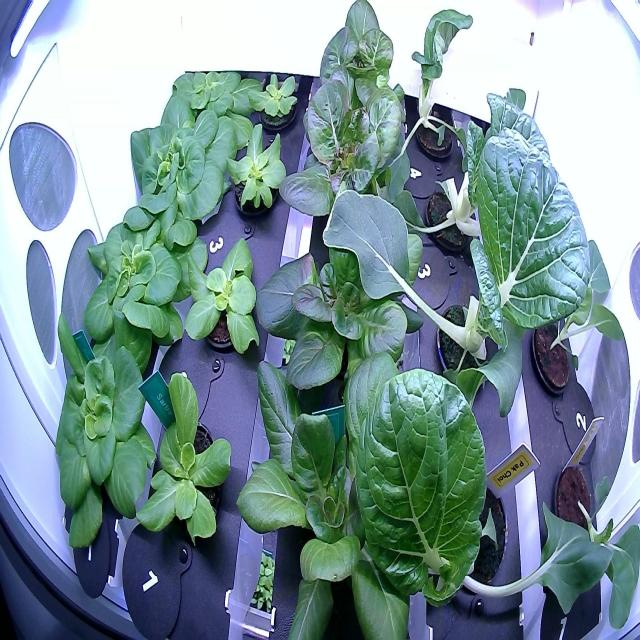young: (235, 314, 446, 640), (252, 184, 438, 410), (31, 310, 164, 559), (272, 53, 424, 244), (75, 197, 213, 376), (128, 367, 241, 570), (117, 94, 241, 237), (311, 0, 408, 127), (179, 227, 264, 370), (159, 57, 265, 149), (224, 119, 292, 227), (245, 60, 305, 141)
